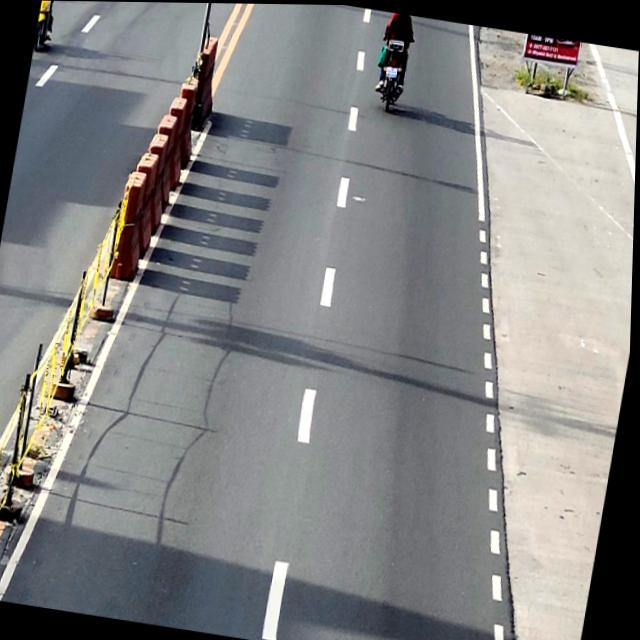License-Plate: (386, 65, 399, 77)
Motorcycle: (373, 36, 412, 113), (33, 0, 64, 54)
